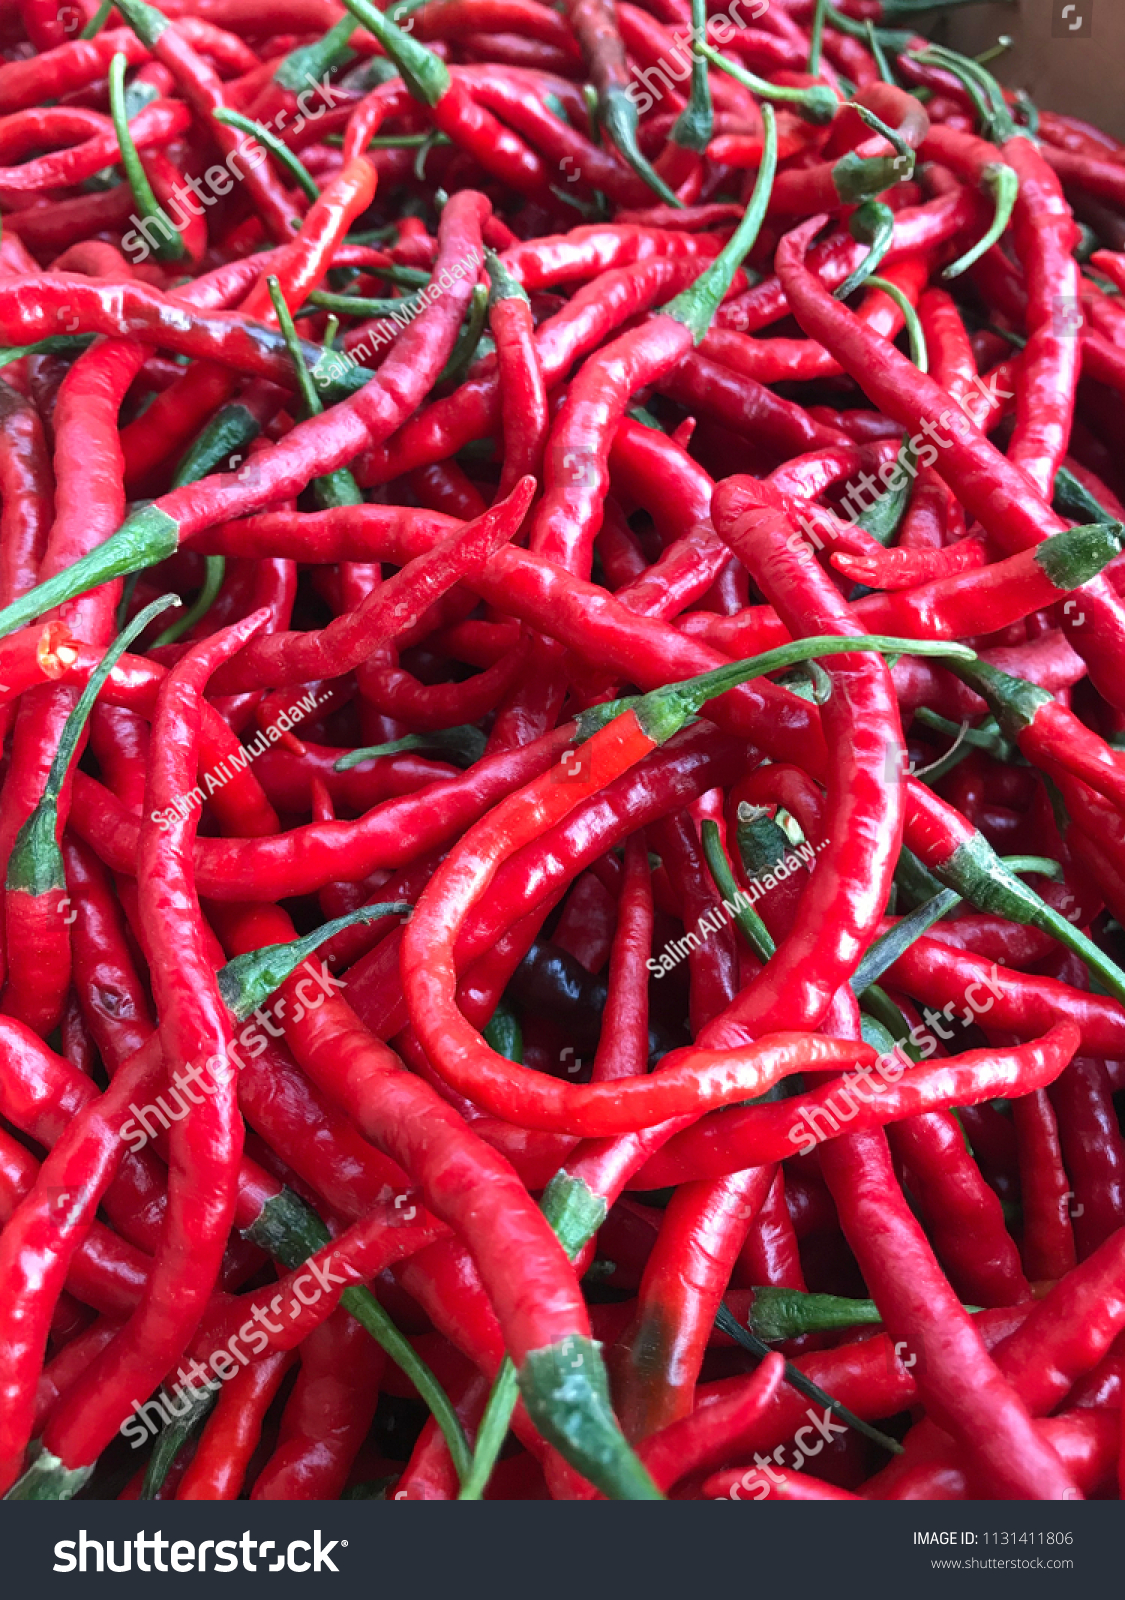Cabai: (180, 313, 959, 1324)
